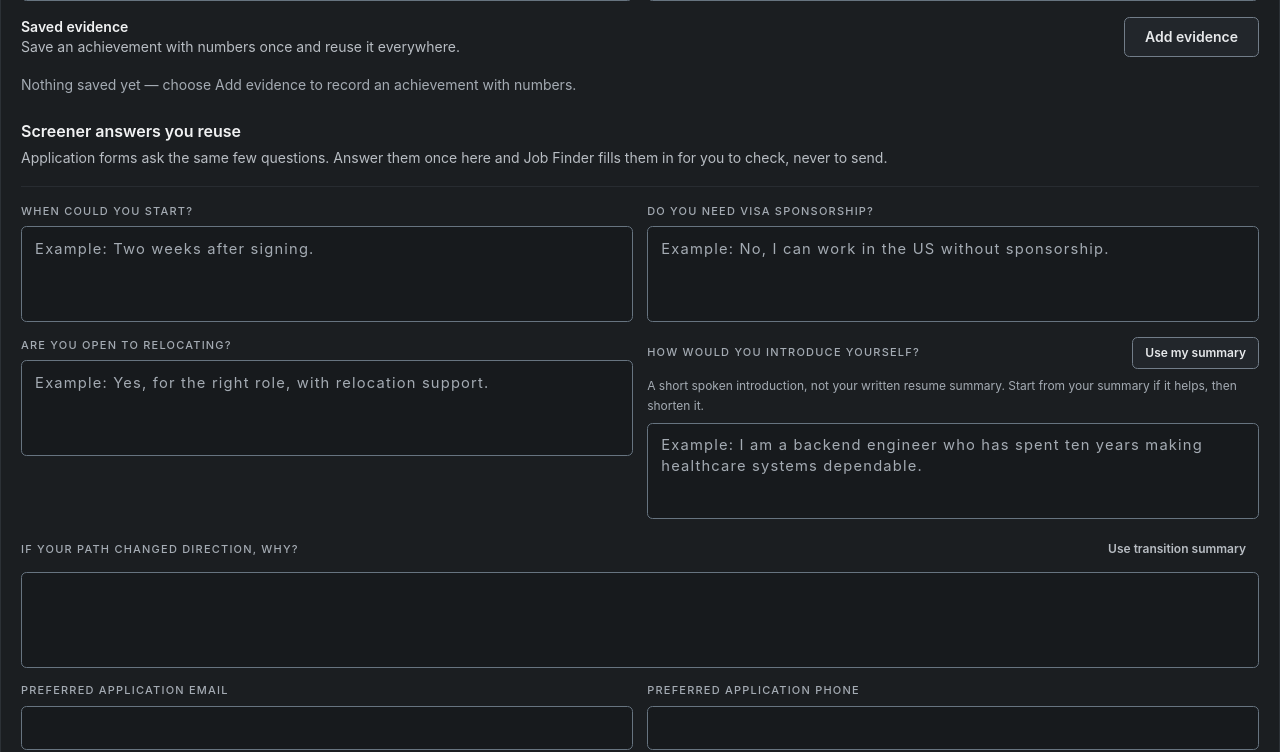
Test: profile setup customer-quality guidance › offers the saved summary as a suggestion instead of pre-filling the spoken intro
The image size is (1280, 752).
(page scrolled)
Expected: the text box labelled "How would you introduce yourself?" is empty, [647,423,1259,519]
Expected: the button "Use transition summary" is shown, [1095,533,1259,565]
Click the button "Use my summary" at (1196, 352), box [1132,336,1259,368]
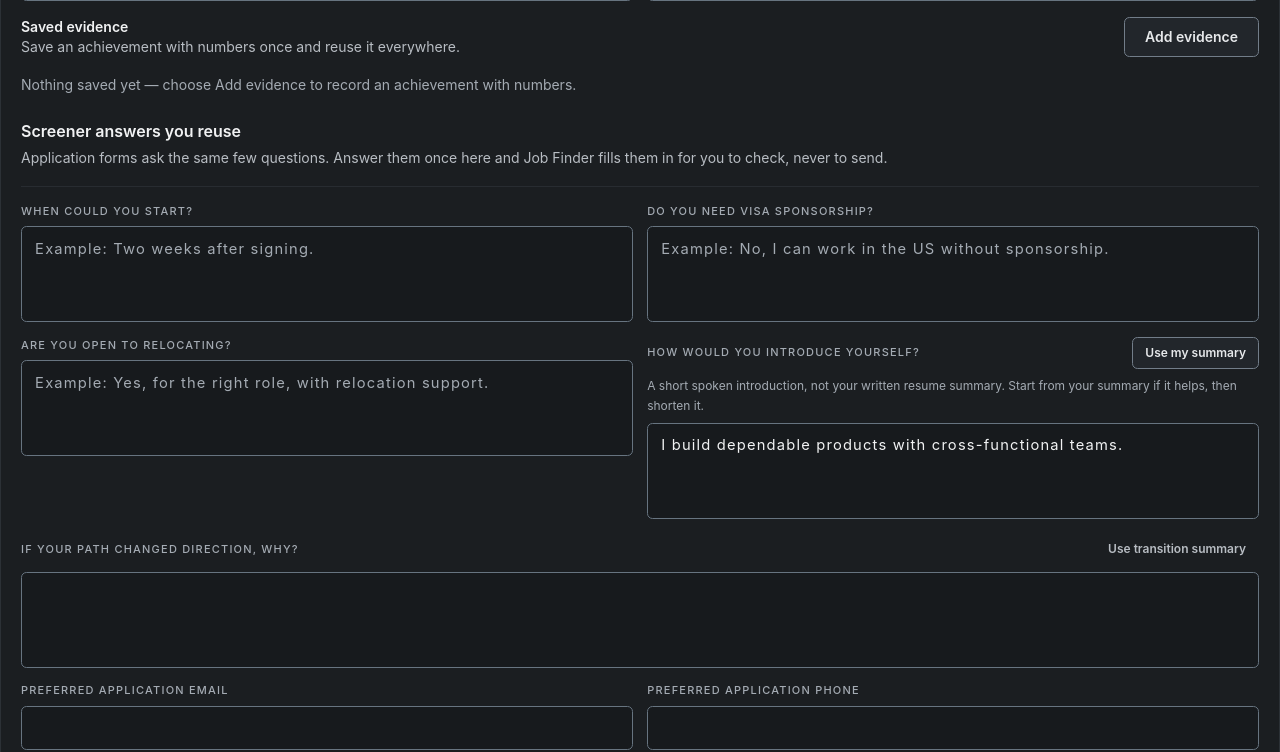
Click the button "Use transition summary" at (1177, 549), box [1095,533,1259,565]
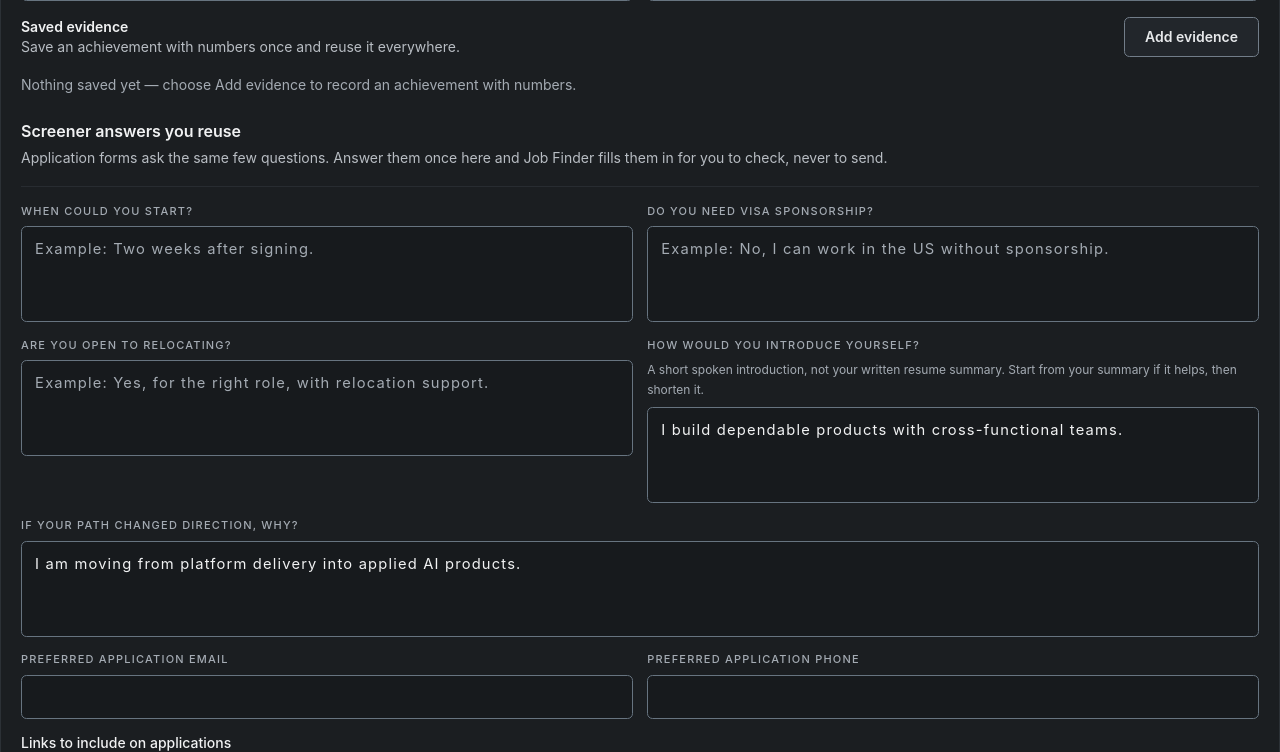
Result: the text box labelled "How would you introduce yourself?" holds "I build dependable products with cross-functional teams." at [647,407,1259,503]
Result: the text box labelled "If your path changed direction, why?" holds "I am moving from platform delivery into applied AI products." at [21,541,1259,637]
